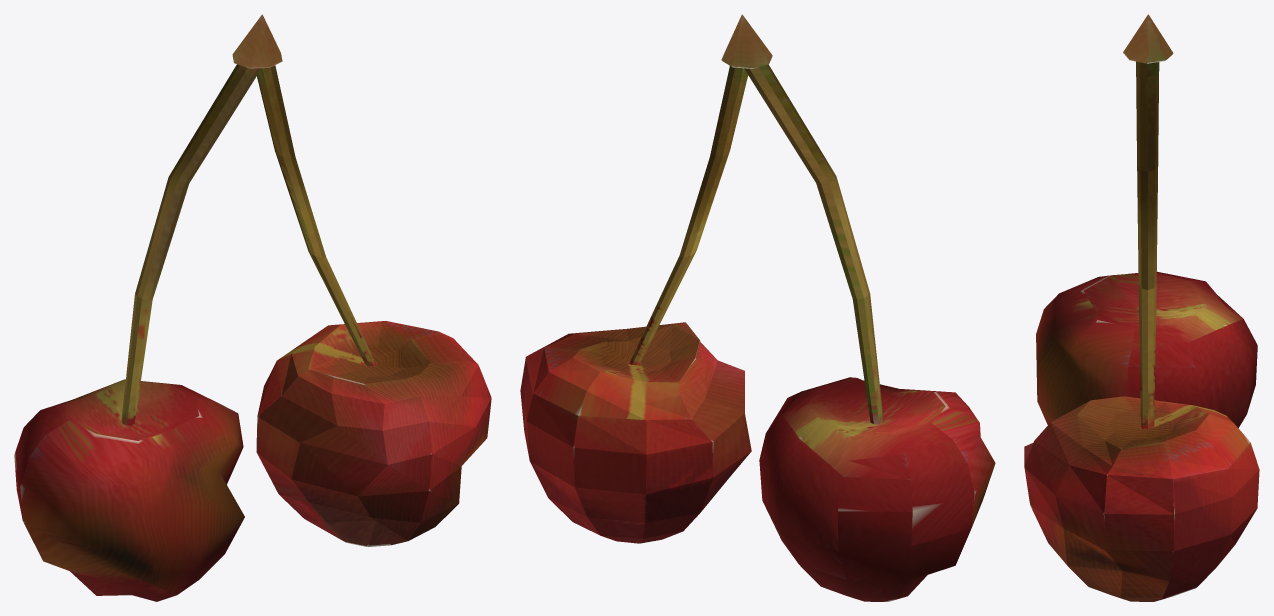
Rendered from fsc32B.obj.
The picture shows the model from 3 angles, left to right: view 1: azimuth 30°, elevation 25°; view 2: azimuth 150°, elevation 25°; view 3: azimuth 270°, elevation 25°; orthographic projection. The views are drawn at different scales.
Visible parts, largest first — view 1: edges; view 2: edges; view 3: edges.
Boxes of the visible parts, <box> form: edges: <box>14,14,491,601</box>; edges: <box>520,14,995,601</box>; edges: <box>1024,14,1259,601</box>.
Size of the model in its own units: 3.76 by 4.41 by 1.78.
1 material, 1 textured.
